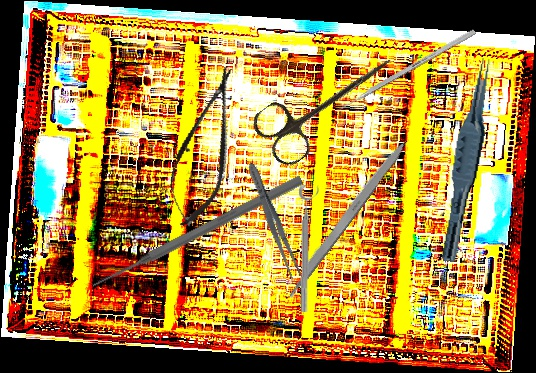Dressing Forceps: (243, 159, 304, 282)
Fixation Ring: (296, 184, 321, 313)
Iris Scissors: (247, 31, 408, 172)
Micro Scissor: (156, 60, 254, 233)
Pusher: (89, 172, 305, 293), (328, 28, 477, 118)
Scalpel Handle: (282, 135, 411, 300)
Tissue Forceps: (439, 56, 497, 264)
